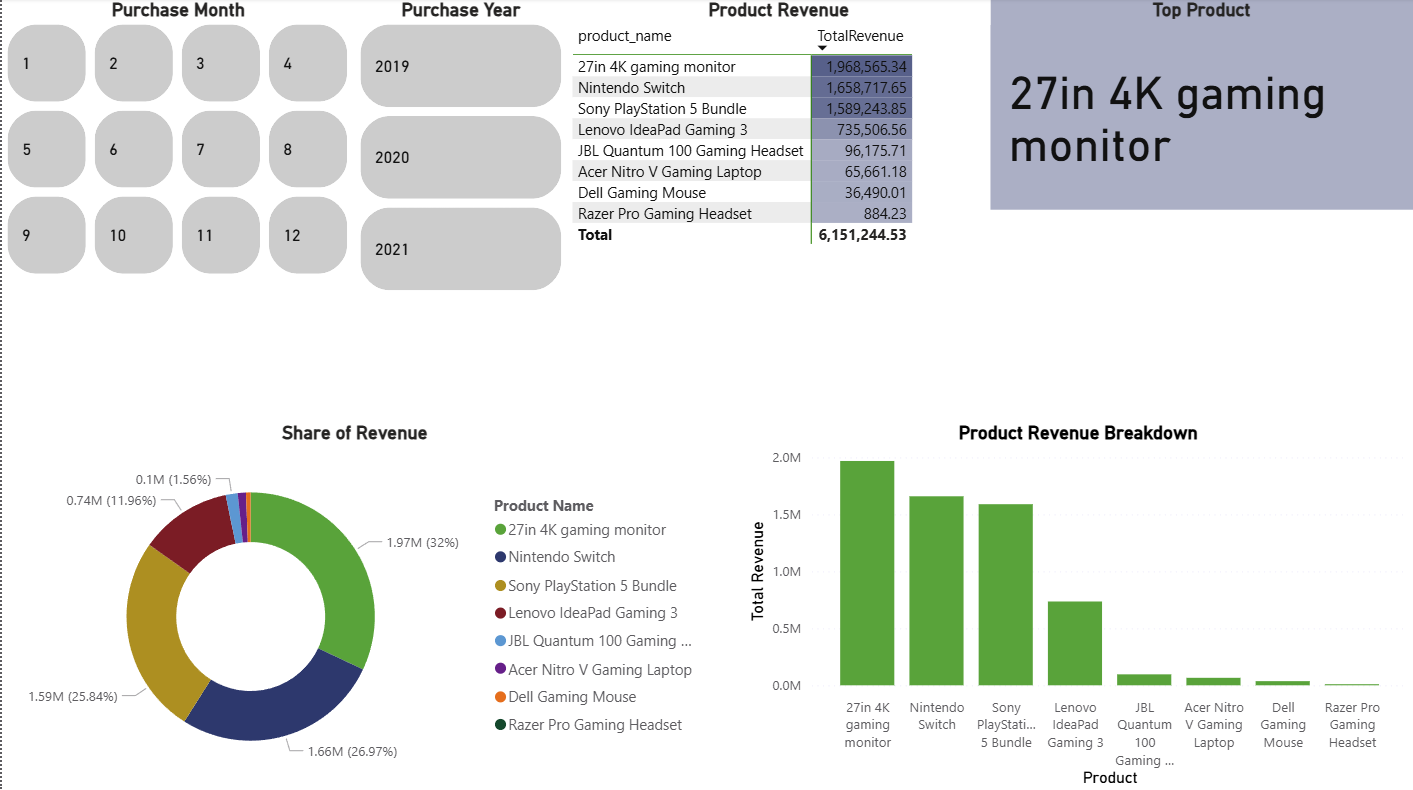

What the dashboard file says about the page in this screenshot:
{"tool":"powerbi","page":{"name":"Product Sales Performance","canvas":[1280,720],"ordinal":1},"visuals":[{"type":"clusteredColumnChart","title":"Product Revenue Breakdown","fields":{"Category":["public orders.product_name"],"Y":["public orders.TotalRevenue"]},"box":[672,384,608,336],"z":0},{"type":"advancedSlicerVisual","title":"Purchase Year","fields":{"Values":["public orders.purchase_year"]},"box":[320,0,192,272],"z":1000},{"type":"advancedSlicerVisual","title":"Purchase Month","fields":{"Values":["public orders.purchase_month"]},"box":[0,0,320,256],"z":2000},{"type":"donutChart","title":"Share of Revenue","fields":{"Category":["public orders.product_name"],"Y":["public orders.TotalRevenue"]},"box":[0,384,640,336],"z":3000},{"type":"cardVisual","title":"Top Product","fields":{"Data":["public orders.TopProduct"]},"box":[896,0,384,192],"z":4000},{"type":"pivotTable","title":"Product Revenue","fields":{"Rows":["public orders.product_name"],"Values":["public orders.TotalRevenue"]},"box":[512,0,384,272],"z":5000}]}

Visuals, with their boxes in screenshot pixels (x1, y1, x2, y2), scaled from the page's 1280x720 canvas onto the 1413x790 screenshot:
"Product Revenue Breakdown" clusteredColumnChart: rect(742, 421, 1412, 789)
"Purchase Year" advancedSlicerVisual: rect(353, 0, 565, 298)
"Purchase Month" advancedSlicerVisual: rect(0, 0, 353, 281)
"Share of Revenue" donutChart: rect(0, 421, 706, 789)
"Top Product" cardVisual: rect(989, 0, 1412, 211)
"Product Revenue" pivotTable: rect(565, 0, 989, 298)
